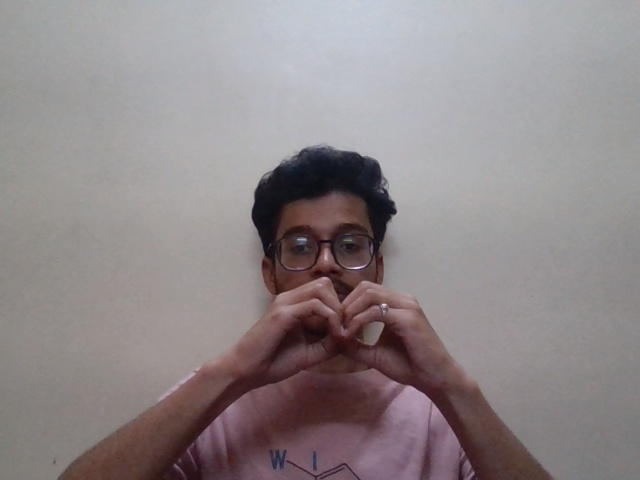see: (232, 271, 452, 402)
